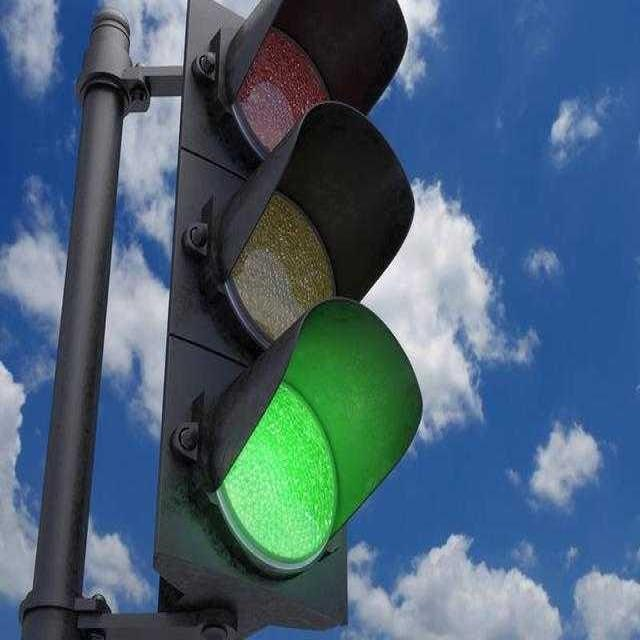Traffic Light -Green-: (181, 0, 430, 609)
